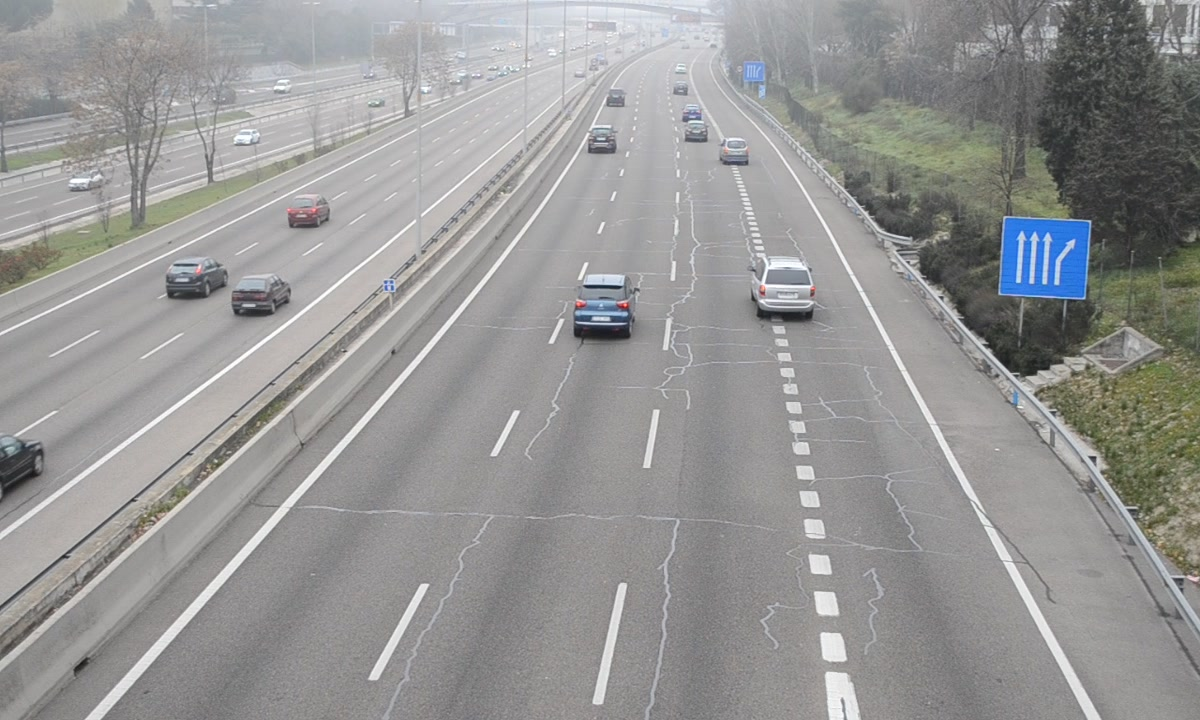car: (751, 256, 813, 314), (573, 275, 633, 334), (585, 124, 618, 154), (720, 136, 749, 166), (683, 119, 710, 143)
